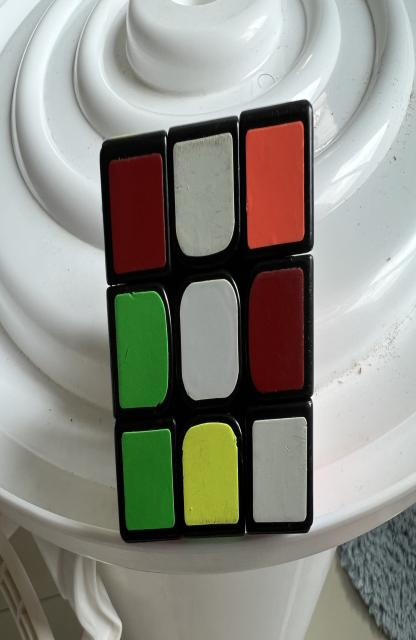Green: (115, 290, 168, 408), (122, 428, 175, 530)
Orange: (246, 122, 305, 248)
Red: (249, 268, 304, 393), (109, 153, 166, 273)
White: (173, 132, 235, 257), (180, 278, 239, 402), (253, 417, 307, 523)
Yellow: (183, 422, 239, 525)
